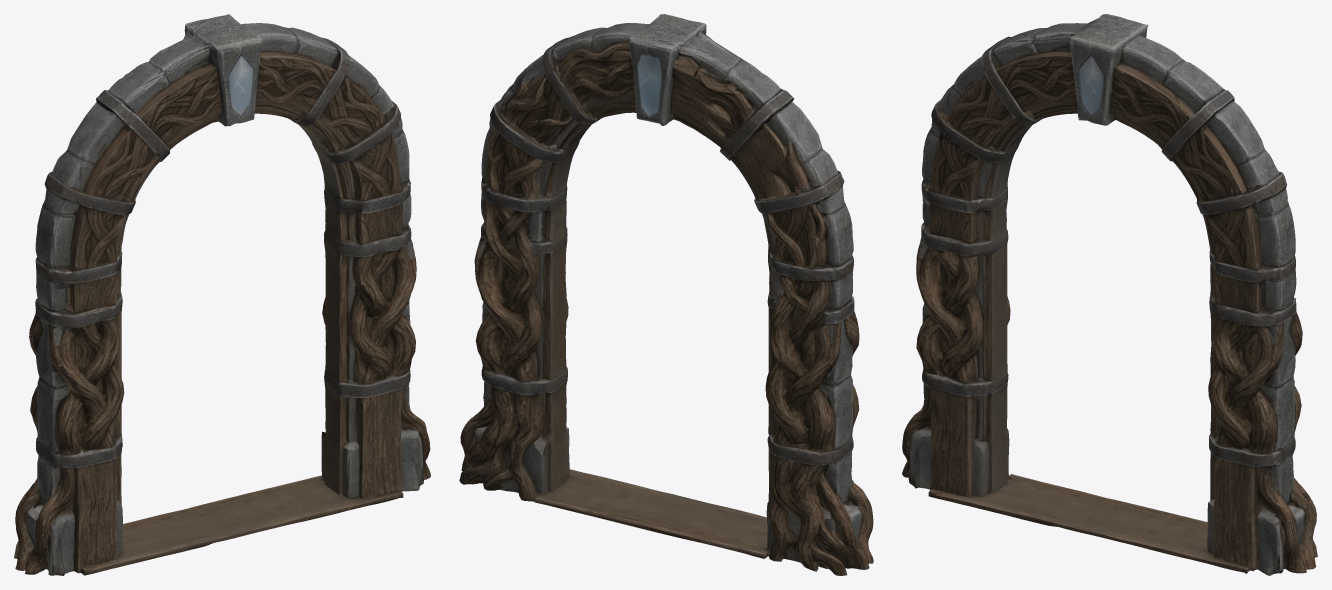
Rendered from meadows_arch_stormwood.glb.
3 renders of one model, left to right at view 1: azimuth 30°, elevation 25°; view 2: azimuth 150°, elevation 25°; view 3: azimuth 330°, elevation 25°, orthographic.
Parts seen in each view (by area): view 1: Mesh_0; view 2: Mesh_0; view 3: Mesh_0.
Part boxes in pixels (x1,y1,x2,y2): Mesh_0: (14, 14, 430, 575); Mesh_0: (459, 14, 873, 575); Mesh_0: (902, 14, 1317, 575).
Size of the model in its own units: 1.66 by 1.9 by 0.2985.
1 material, 1 textured.
